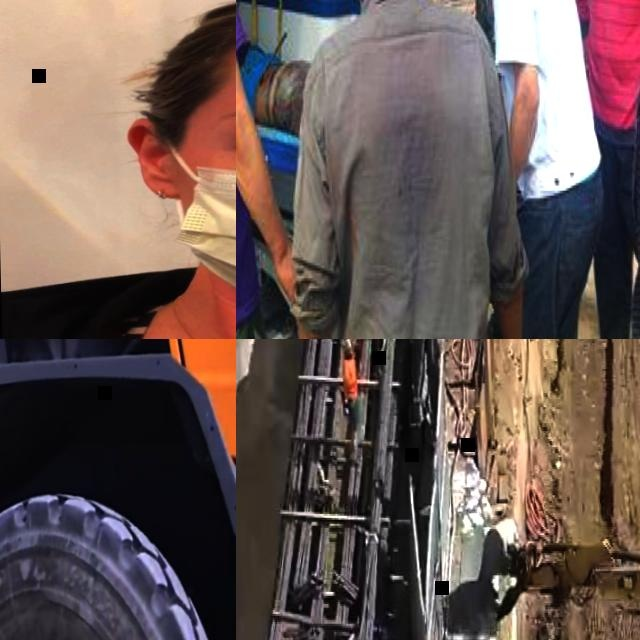Hardhat: (277, 0, 530, 339), (341, 339, 350, 350)
NO-Safety Vest: (331, 0, 498, 339), (497, 0, 593, 191), (578, 0, 640, 141), (628, 0, 640, 339), (550, 0, 585, 39), (471, 0, 490, 30)
Person: (0, 0, 236, 339), (460, 0, 601, 339), (554, 0, 640, 339), (591, 0, 640, 339), (469, 0, 531, 39), (340, 339, 361, 441)
Safety Vest: (342, 355, 357, 395)
machinery: (0, 339, 236, 640), (473, 507, 640, 640)
vehicle: (236, 0, 613, 339), (236, 339, 421, 640)
